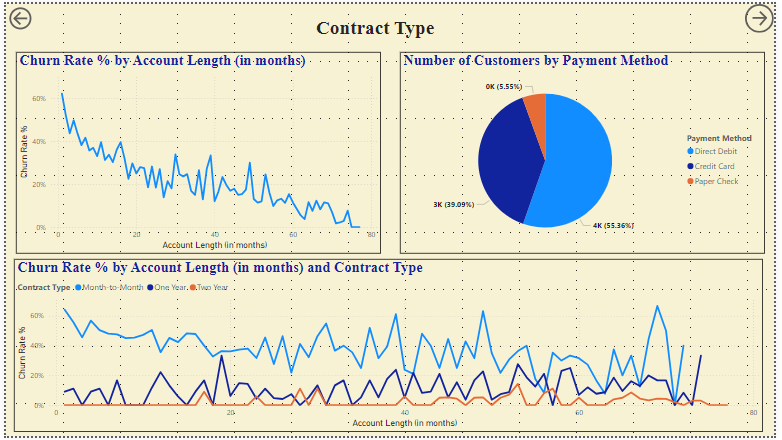

The dashboard page shown, as its layout file describes it:
{"tool":"powerbi","page":{"name":"Contract Type","canvas":[1280,720],"ordinal":5},"visuals":[{"type":"lineChart","fields":{"Y":["__Measures.Churn Rate %"],"Category":["Databel - Data.Account Length (in months)"]},"box":[16,80,608,336],"z":0},{"type":"pieChart","fields":{"Category":["Databel - Data.Payment Method"],"Y":["__Measures.Number of Customers"]},"box":[656,80,608,336],"z":1000},{"type":"lineChart","fields":{"Y":["__Measures.Churn Rate %"],"Category":["Databel - Data.Account Length (in months)"],"Series":["Databel - Data.Contract Type"]},"box":[13.3,425,1248,288],"z":2000},{"type":"actionButton","box":[0,0,48,48],"z":3000},{"type":"actionButton","box":[1232,0,48,48],"z":4000},{"type":"textbox","box":[512,16,224,48],"z":4001}]}

Visuals, with their boxes in screenshot pixels (x1, y1, x2, y2), scaled from the page's 1280x720 canvas onto the 782x440 screenshot:
lineChart - __Measures.Churn Rate % x Databel - Data.Account Length (in months): Rect(10, 49, 381, 254)
pieChart - Databel - Data.Payment Method x __Measures.Number of Customers: Rect(401, 49, 772, 254)
lineChart - __Measures.Churn Rate % x Databel - Data.Account Length (in months): Rect(8, 260, 771, 436)
actionButton: Rect(0, 0, 29, 29)
actionButton: Rect(753, 0, 781, 29)
textbox: Rect(313, 10, 450, 39)
